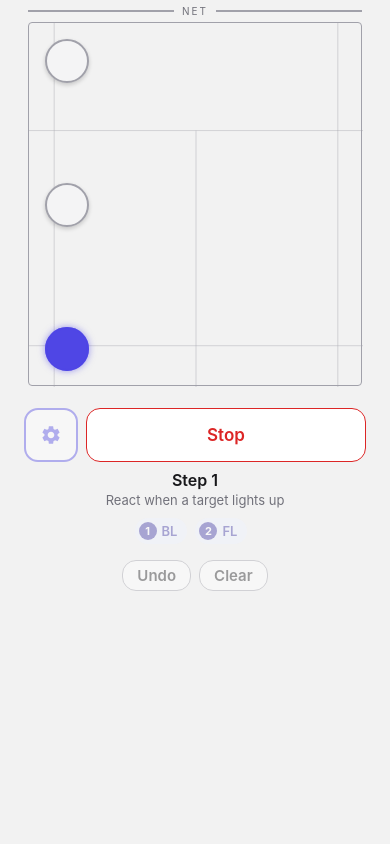
it: a rehydrated run restores the config — Start re-runs the same path
Click the button "Stop".
click(226, 435)  # box [86,408,366,462]
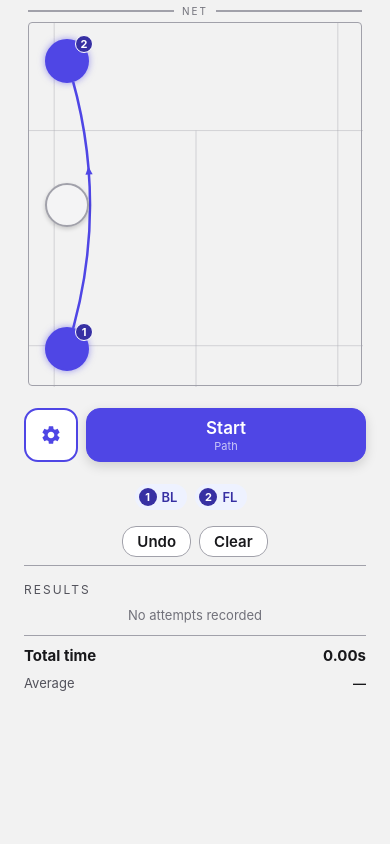
// Start re-runs the SAME path — not a dead disabled button over an empty one.
Click the text "Start".
click(226, 428)  # box [206,418,246,438]
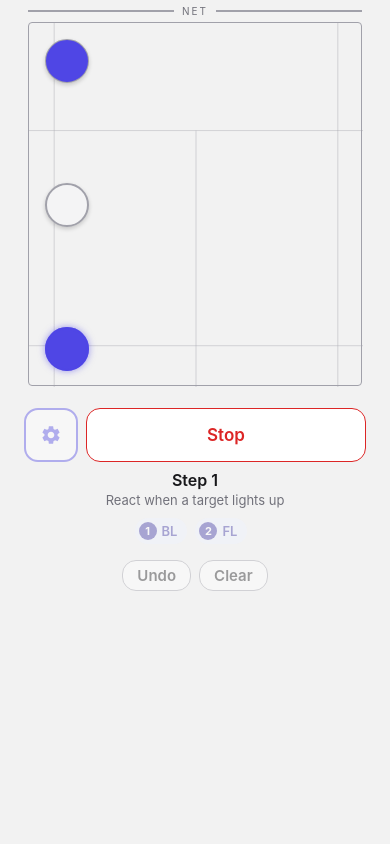
Check: the text "Stop" is shown, box [207,425,245,445]
